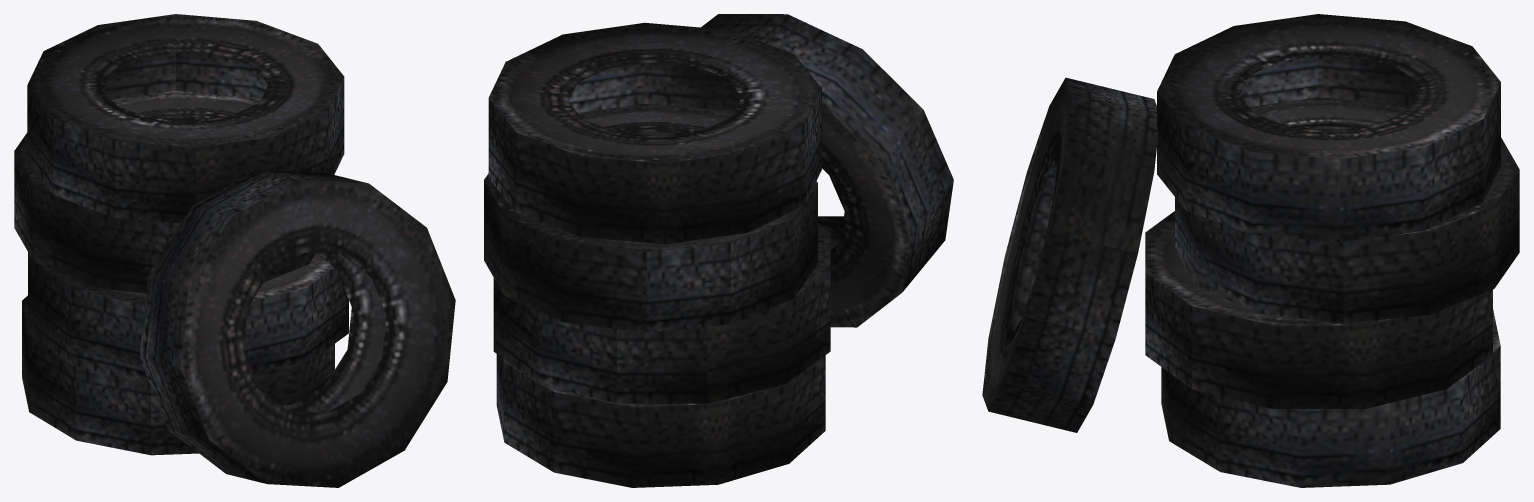
Rendered from tires.glb.
3 renders of one model, left to right at view 1: azimuth 30°, elevation 25°; view 2: azimuth 150°, elevation 25°; view 3: azimuth 270°, elevation 25°, orthographic. The views are drawn at different scales.
Parts seen in each view (by area): view 1: Tires; view 2: Tires; view 3: Tires.
Boxes of the visible parts, bbox=[...] form: Tires: bbox=[14, 14, 455, 487]; Tires: bbox=[484, 14, 953, 487]; Tires: bbox=[982, 14, 1519, 487].
Bounding box in the file's own units: 0.7687 × 0.8022 × 1.17.
1 material, 1 textured.
